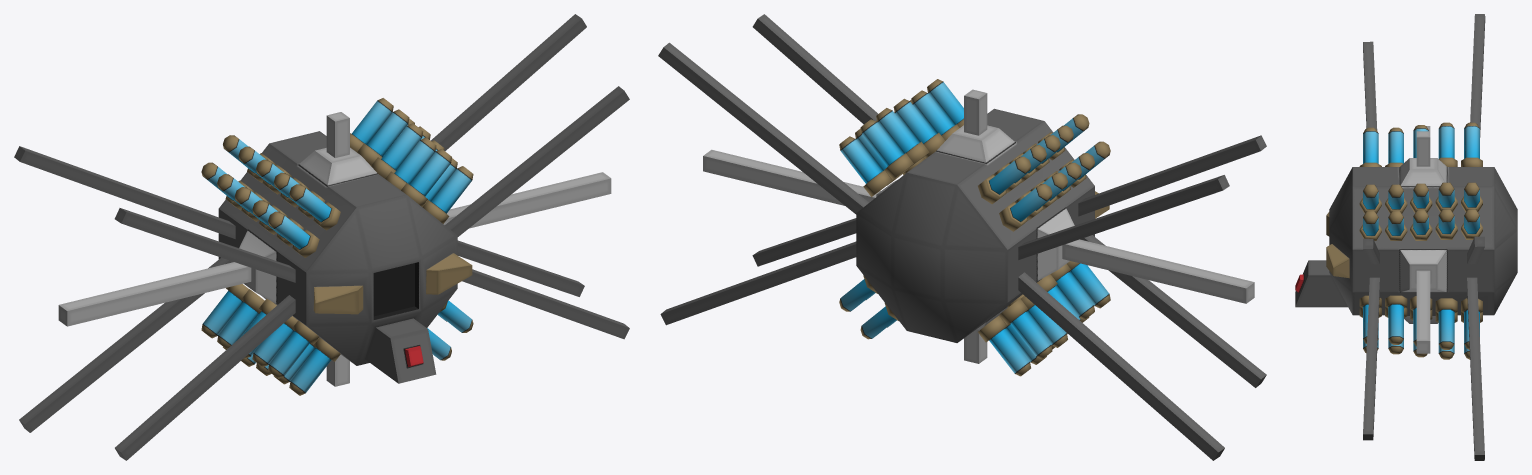
File: bomba.fbx
3 views of the same model, side by side, from view 1: azimuth 30°, elevation 25°; view 2: azimuth 150°, elevation 25°; view 3: azimuth 270°, elevation 25° (orthographic). The views are drawn at different scales.
Visible parts, largest first — view 1: Cube.038; view 2: Cube.038; view 3: Cube.038.
Boxes of the visible parts, x1=… form: Cube.038: x1=14, y1=14, x2=629, y2=460; Cube.038: x1=658, y1=14, x2=1266, y2=460; Cube.038: x1=1295, y1=14, x2=1517, y2=460.
Size of the model in its own units: 559 by 267 by 235.
1 material, 1 textured.
